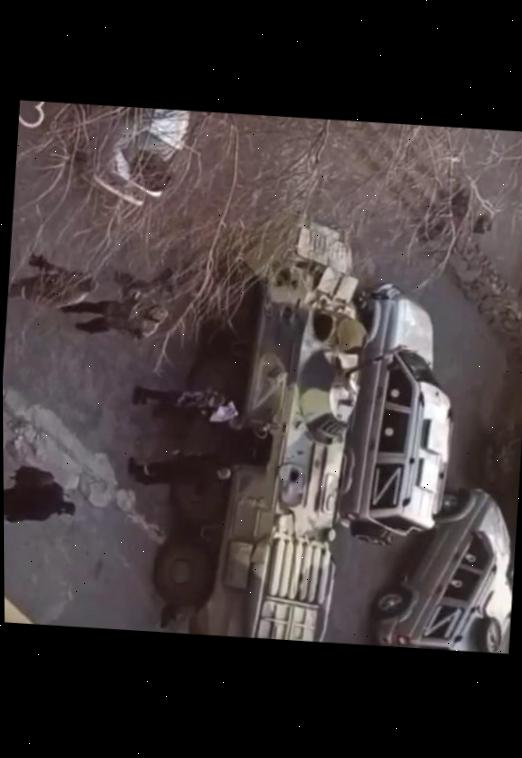car: (330, 281, 463, 550), (364, 476, 519, 655), (70, 103, 194, 208)
person: (60, 283, 170, 345), (6, 250, 98, 315), (3, 463, 77, 534), (124, 453, 234, 498), (130, 382, 223, 421)
tank: (141, 206, 376, 645)
